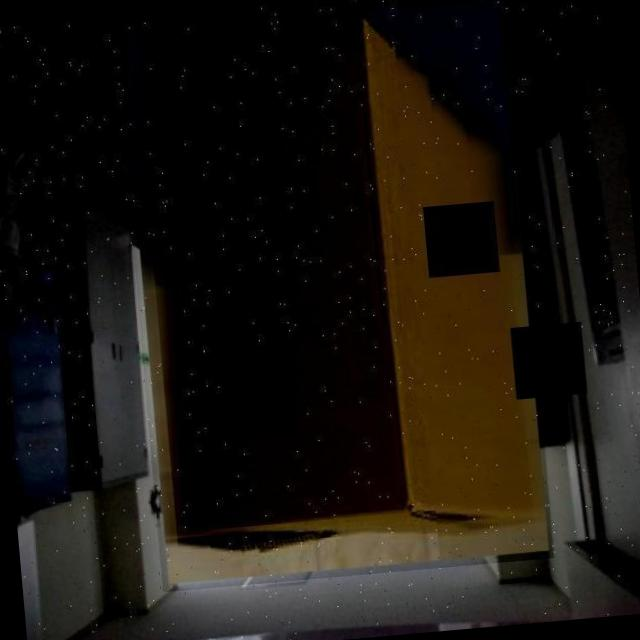box: (113, 0, 554, 591)
